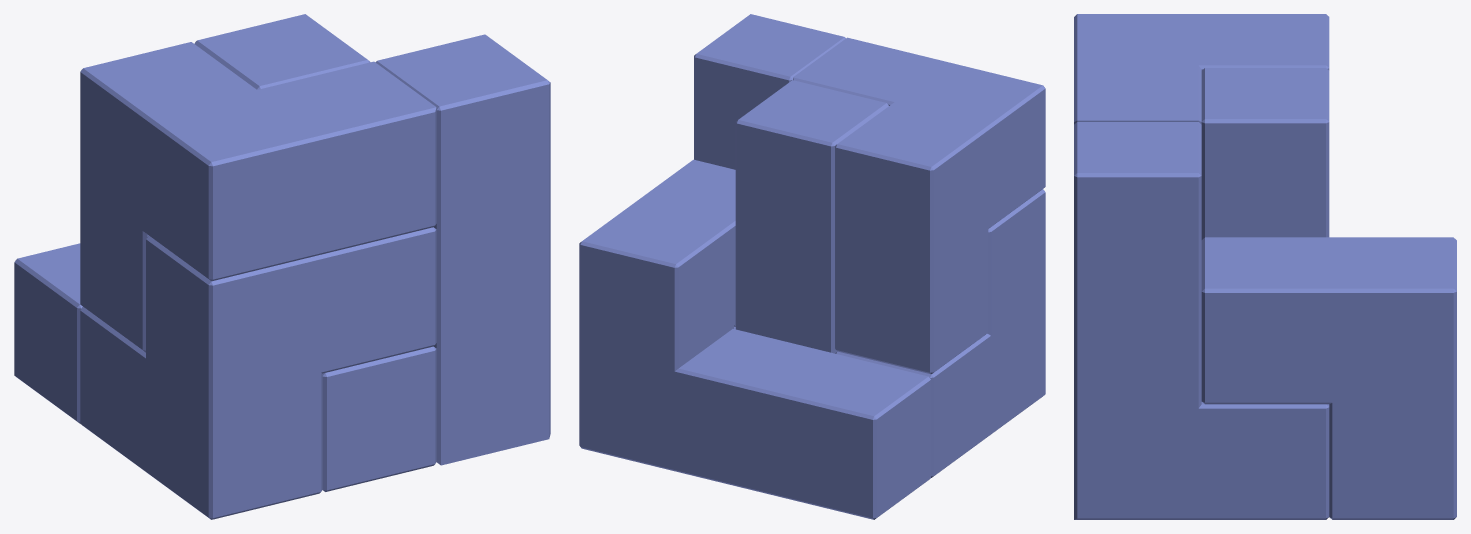
Rendered from assembled.gltf.
The picture shows the model from 3 angles, left to right: view 1: azimuth 30°, elevation 25°; view 2: azimuth 150°, elevation 25°; view 3: azimuth 270°, elevation 25°; orthographic projection. The views are drawn at different scales.
Visible parts, largest first — view 1: Cube.004, Cube.003, Cube.002, Cube.001, Cube.005; view 2: Cube.005, Cube.004, Cube.001, Cube.003, Cube.002; view 3: Cube.002, Cube.005, Cube.001, Cube.004.
Part boxes in pixels (bbox=[...]): Cube.004: bbox=[80, 42, 436, 352]; Cube.003: bbox=[80, 227, 436, 519]; Cube.002: bbox=[375, 34, 550, 465]; Cube.001: bbox=[194, 14, 436, 491]; Cube.005: bbox=[14, 243, 82, 423]; Cube.005: bbox=[579, 159, 930, 519]; Cube.004: bbox=[793, 37, 1045, 374]; Cube.001: bbox=[735, 80, 888, 353]; Cube.003: bbox=[835, 189, 1045, 477]; Cube.002: bbox=[694, 14, 845, 329]; Cube.002: bbox=[1074, 122, 1329, 519]; Cube.005: bbox=[1201, 237, 1456, 519]; Cube.001: bbox=[1201, 68, 1329, 239]; Cube.004: bbox=[1074, 14, 1329, 124].
Size of the model in its own units: 6 by 6 by 6.
